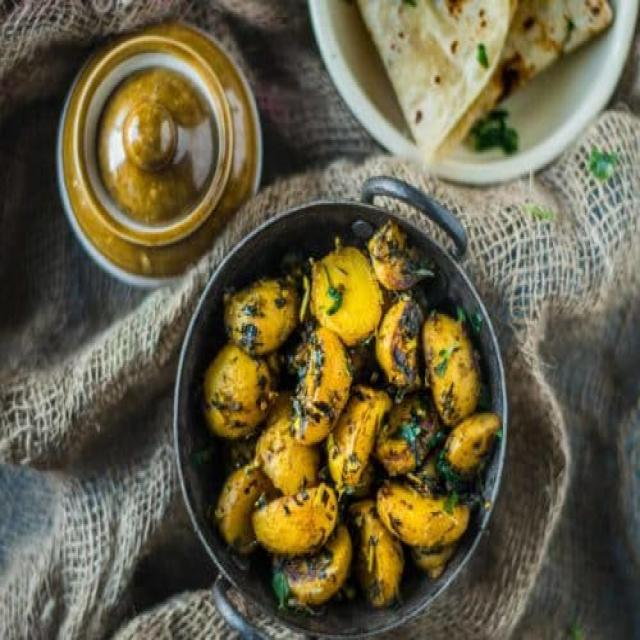Aloo Methi: (200, 222, 496, 614)
